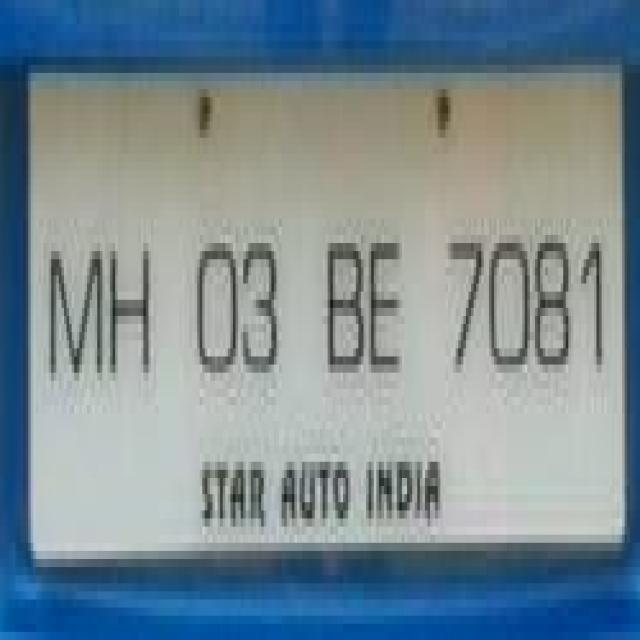license_plate: (0, 48, 609, 567)
